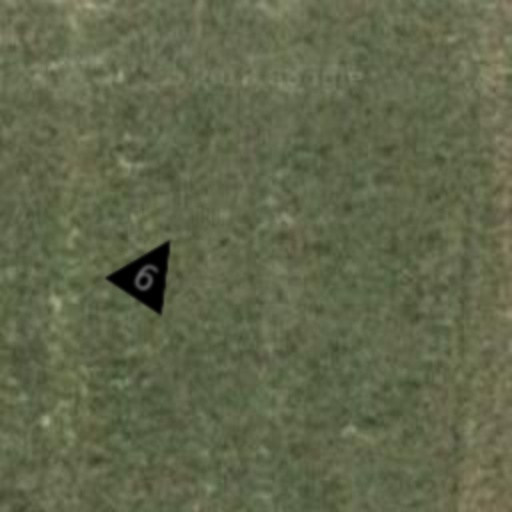triangle: (102, 218, 202, 318)
